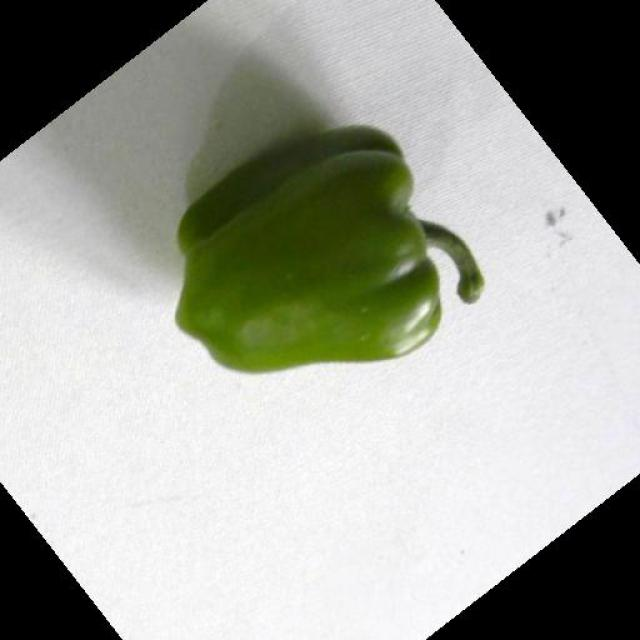Fresh_Capsicum: (152, 103, 488, 368)
